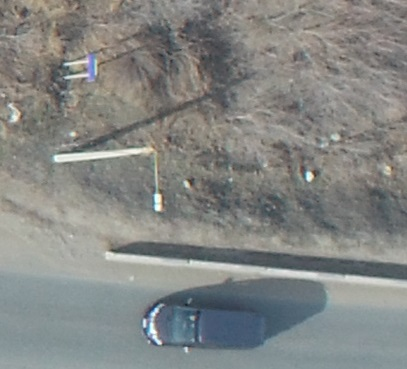opora: (51, 131, 167, 212)
